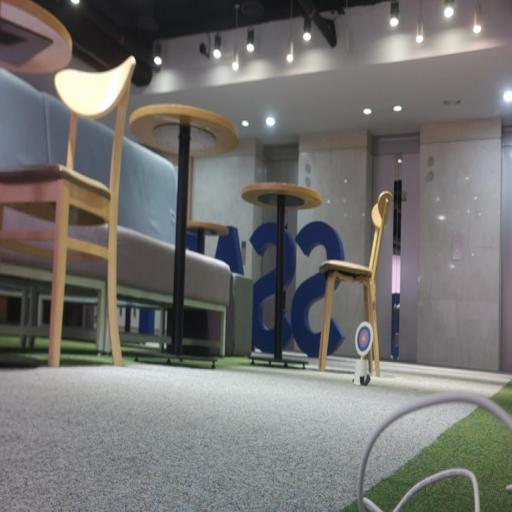target: (355, 321, 373, 356)
